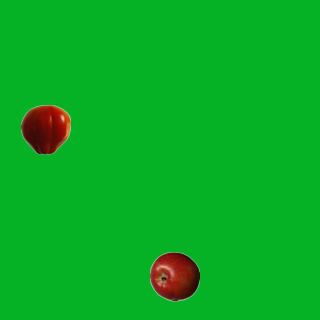Apple Braeburn: (149, 251, 199, 301)
Tomato 1: (20, 104, 70, 154)
